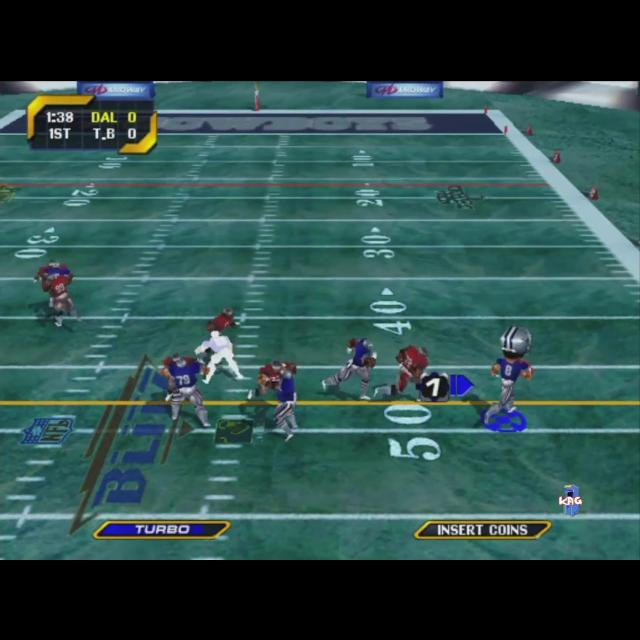player: (484, 326, 534, 424), (160, 354, 210, 428), (322, 338, 376, 398), (374, 345, 430, 401), (194, 330, 244, 384), (42, 272, 82, 326), (274, 365, 298, 441), (247, 360, 289, 400), (34, 261, 72, 305), (205, 308, 241, 352), (40, 262, 72, 306), (160, 354, 186, 402)
